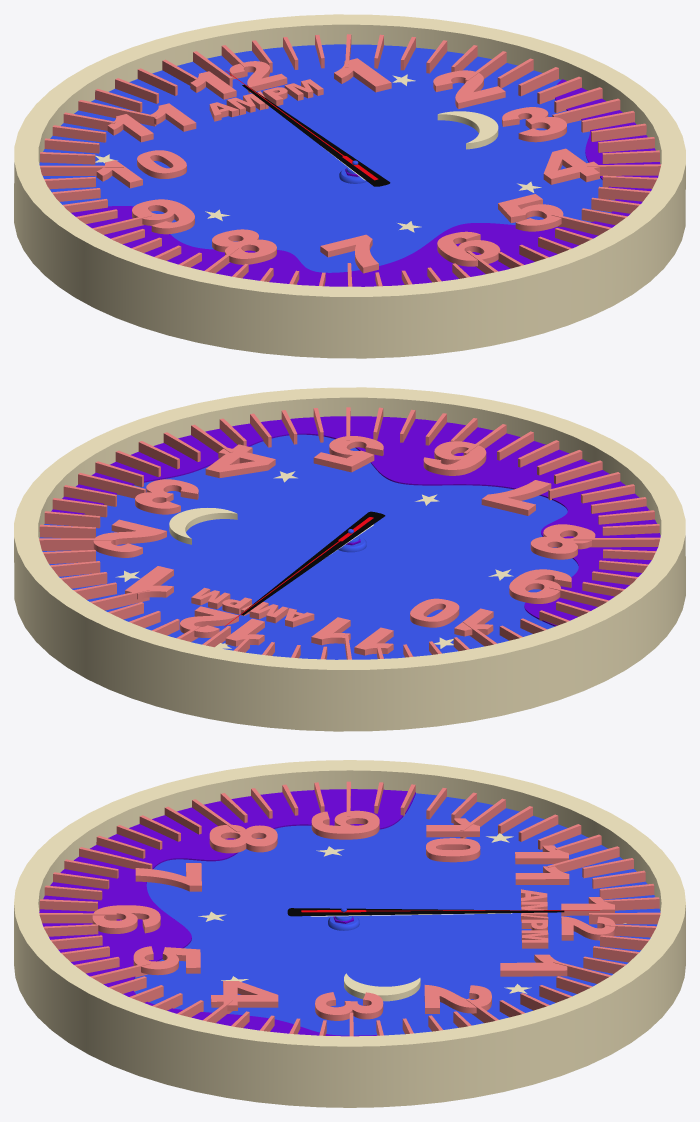
The model's file is Clock2.glb.
3 renders of one model, top to bottom at view 1: azimuth 30°, elevation 25°; view 2: azimuth 150°, elevation 25°; view 3: azimuth 270°, elevation 25°, orthographic.
Visible parts, largest first — view 1: WallClock_3d_model, Words_Numbers.001, Minutes; view 2: WallClock_3d_model, Words_Numbers.001, Minutes; view 3: WallClock_3d_model, Words_Numbers.001, Minutes.
Part boxes in pixels (x1=…): WallClock_3d_model: x1=14, y1=14, x2=685, y2=358; Words_Numbers.001: x1=40, y1=34, x2=661, y2=286; Minutes: x1=242, y1=84, x2=390, y2=186; WallClock_3d_model: x1=14, y1=387, x2=685, y2=731; Words_Numbers.001: x1=39, y1=407, x2=660, y2=659; Minutes: x1=241, y1=511, x2=385, y2=615; WallClock_3d_model: x1=14, y1=760, x2=685, y2=1107; Words_Numbers.001: x1=39, y1=781, x2=660, y2=1036; Minutes: x1=287, y1=908, x2=564, y2=916.
Bounding box in the file's own units: 2.37 × 0.2488 × 2.37.
